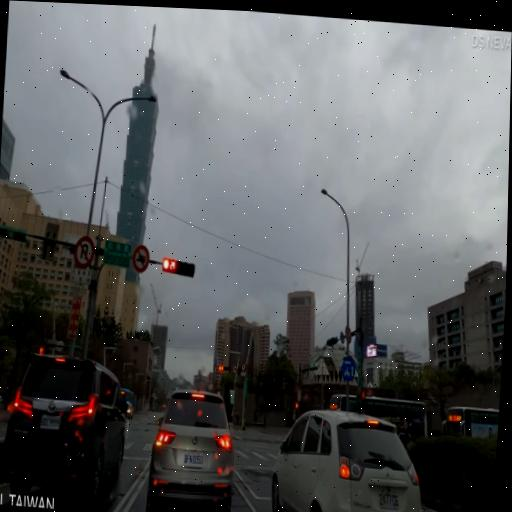Car: (0, 332, 134, 512), (262, 396, 440, 512), (144, 378, 242, 512), (325, 384, 432, 454), (437, 392, 500, 469)
